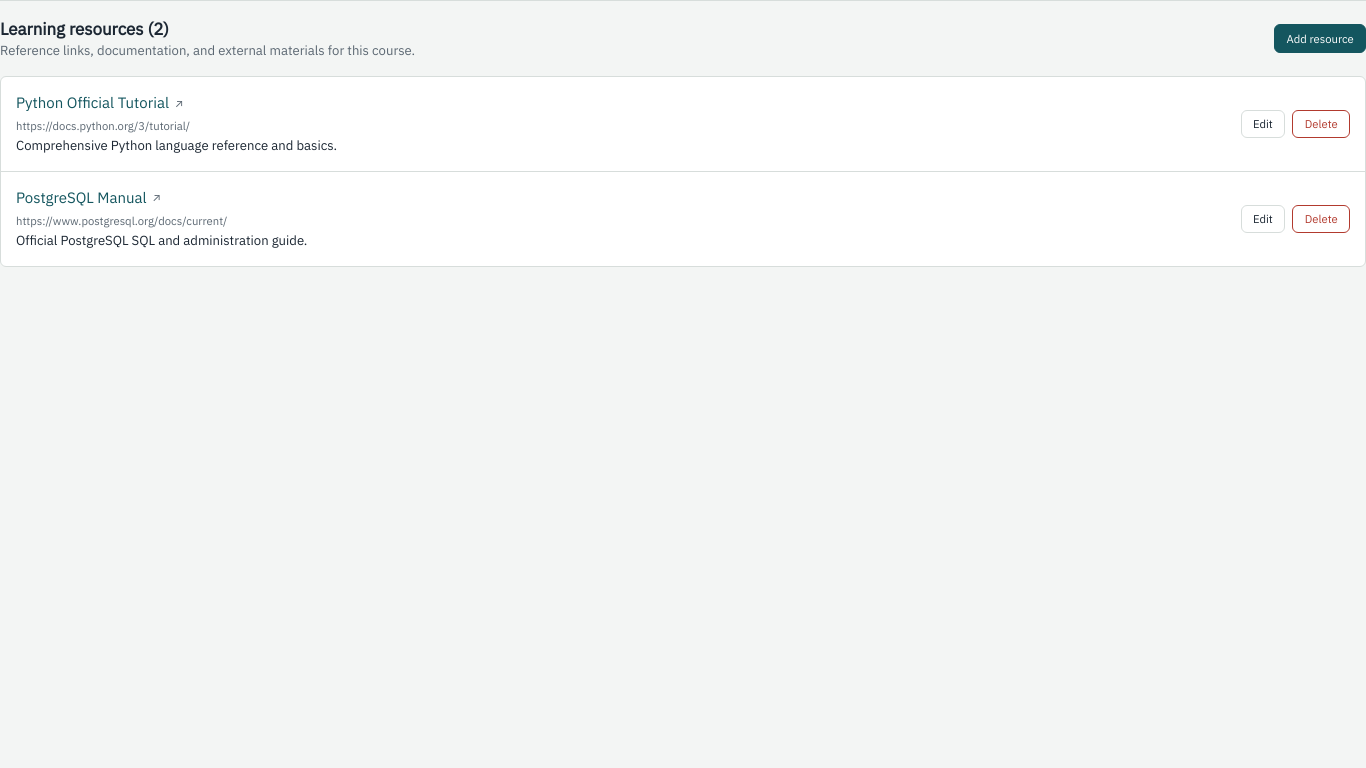
Test case: CourseResourcesSection Component › allows owner to edit an existing resource
This screenshot has width=1366, height=768.
Expected: the text "Python Official Tutorial" is shown, x1=16 y1=92 x2=169 y2=114
Click the button "Edit" in the row of "Python Official Tutorial" at (1263, 124), box x1=1241 y1=110 x2=1285 y2=138
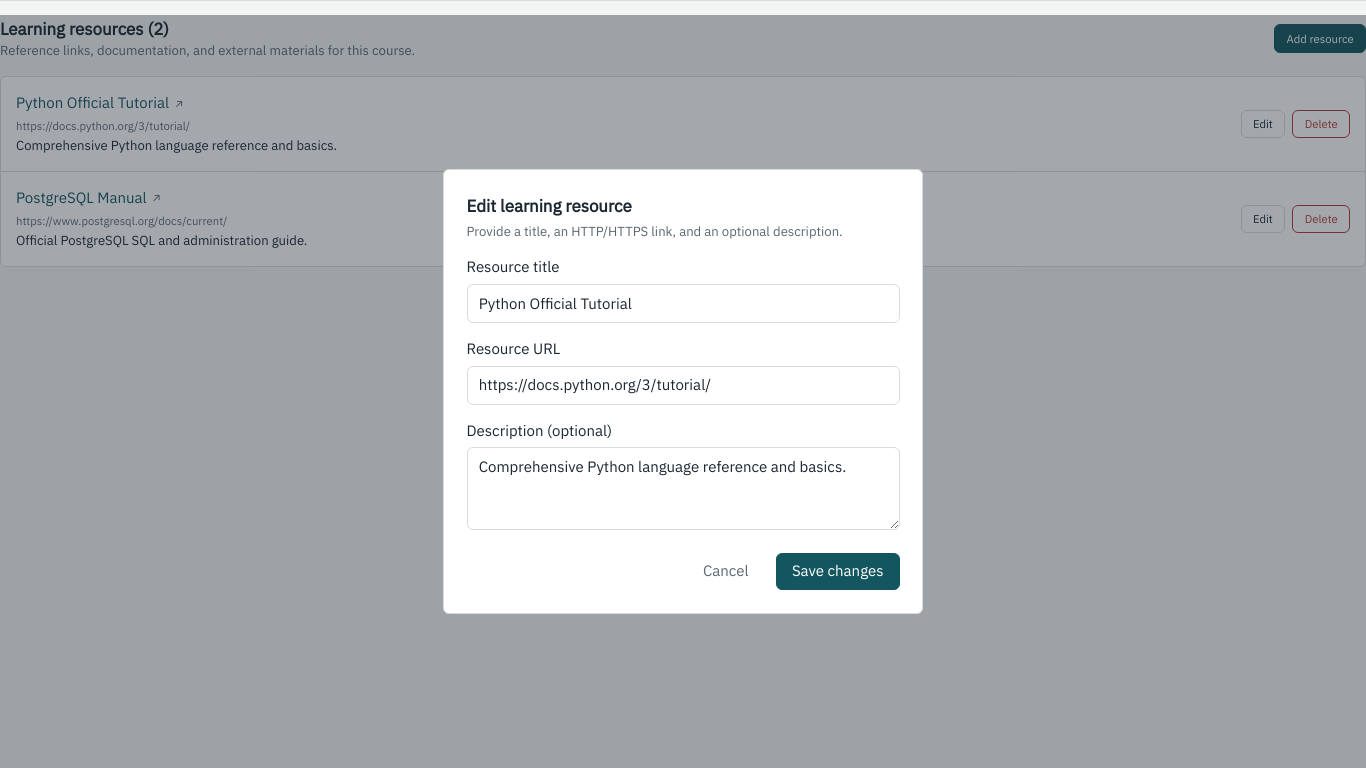
Expected: the heading "Edit learning resource" is shown, x1=466 y1=195 x2=632 y2=217
Expected: the field labelled "Resource title" holds "Python Official Tutorial"
Replace the text in the field labelled "Resource title" with "Python 3 Tutorial (Updated)" at (683, 304), box x1=466 y1=284 x2=900 y2=323
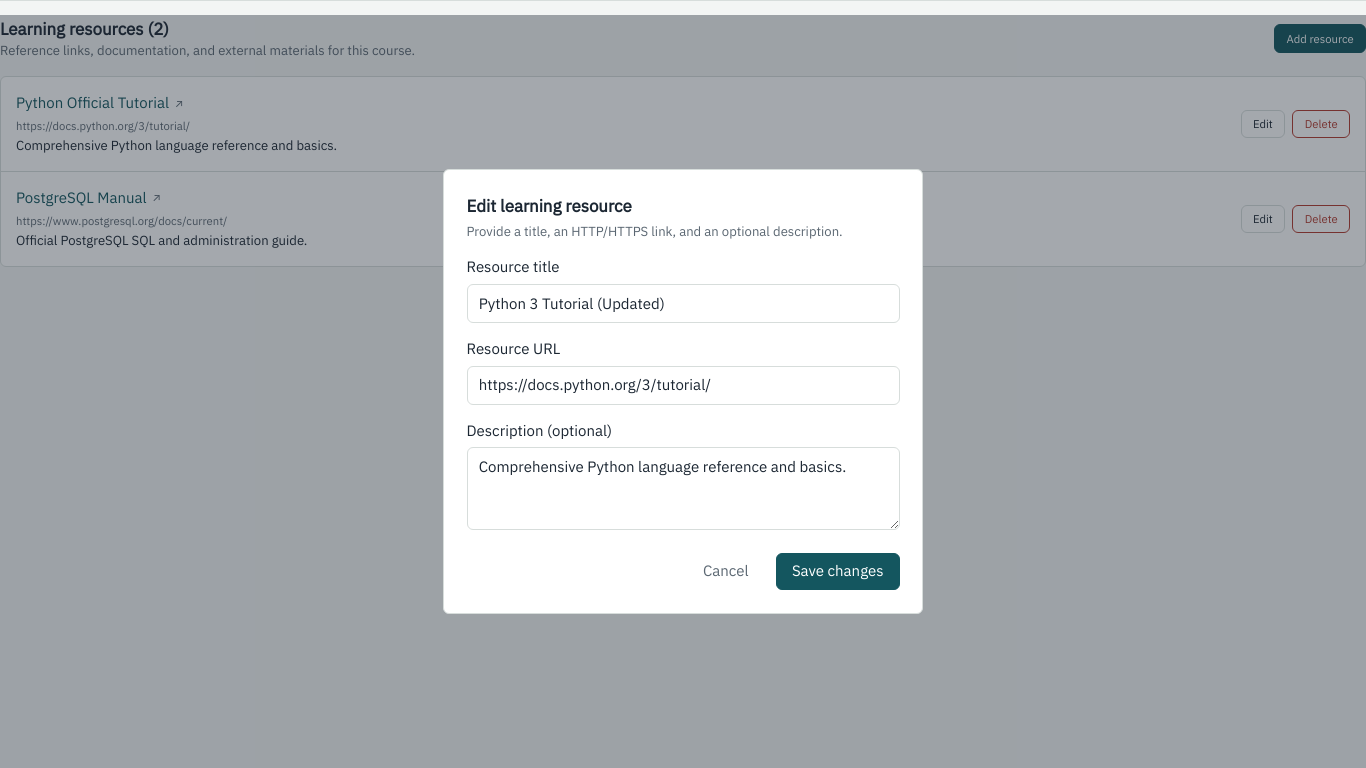
Replace the text in the field labelled "Resource URL" with "https://docs.python.org/3/tutorial/index.html" at (683, 385), box x1=466 y1=366 x2=900 y2=405
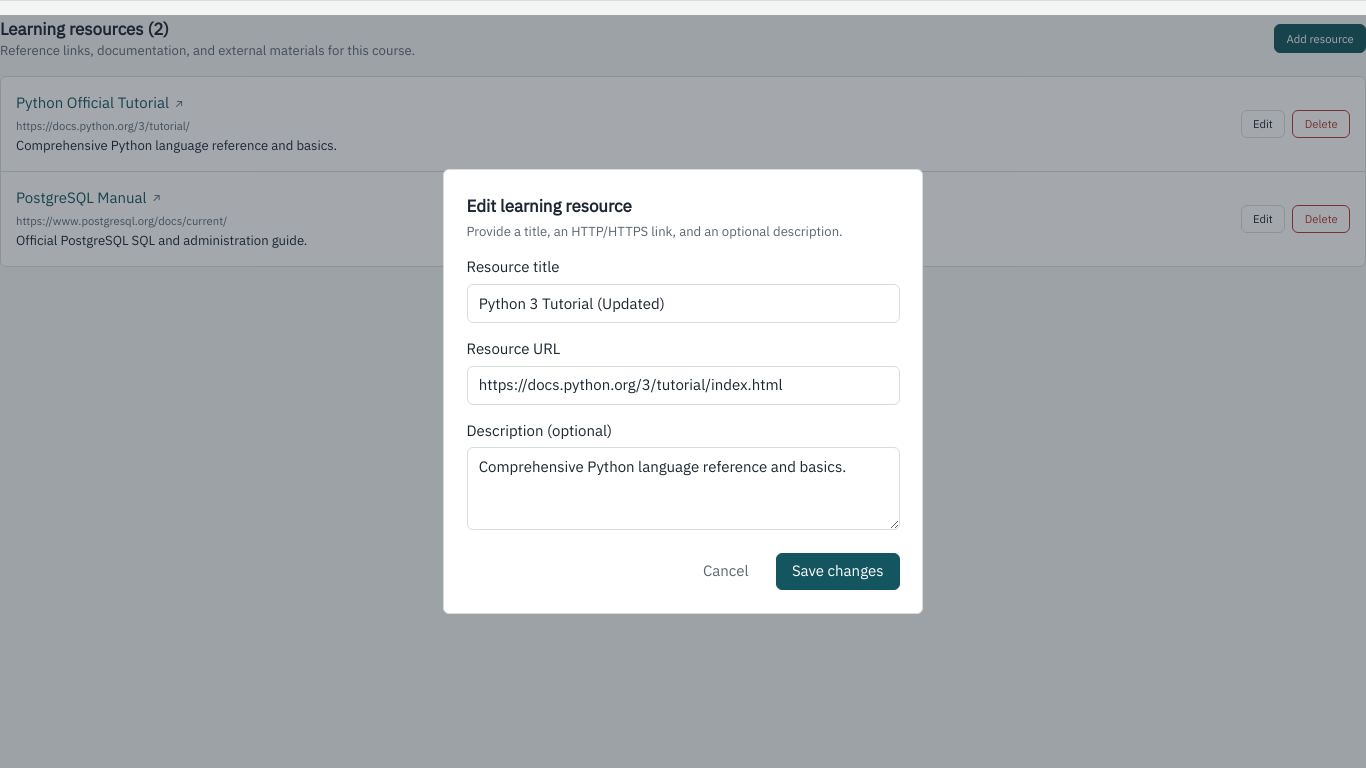
Click the button "Save changes" at (838, 572), box x1=776 y1=553 x2=900 y2=590
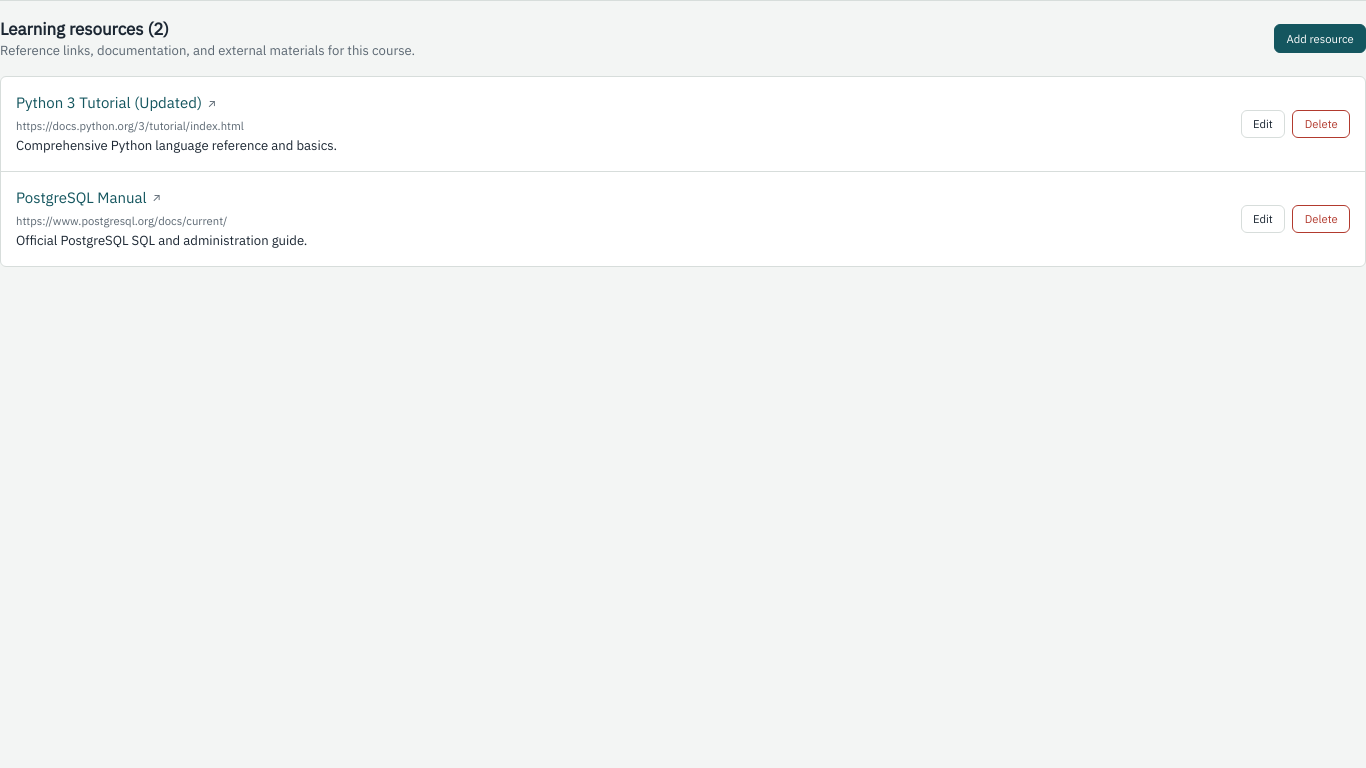
Expected: the text "Python 3 Tutorial (Updated)" is shown, x1=16 y1=92 x2=202 y2=114
